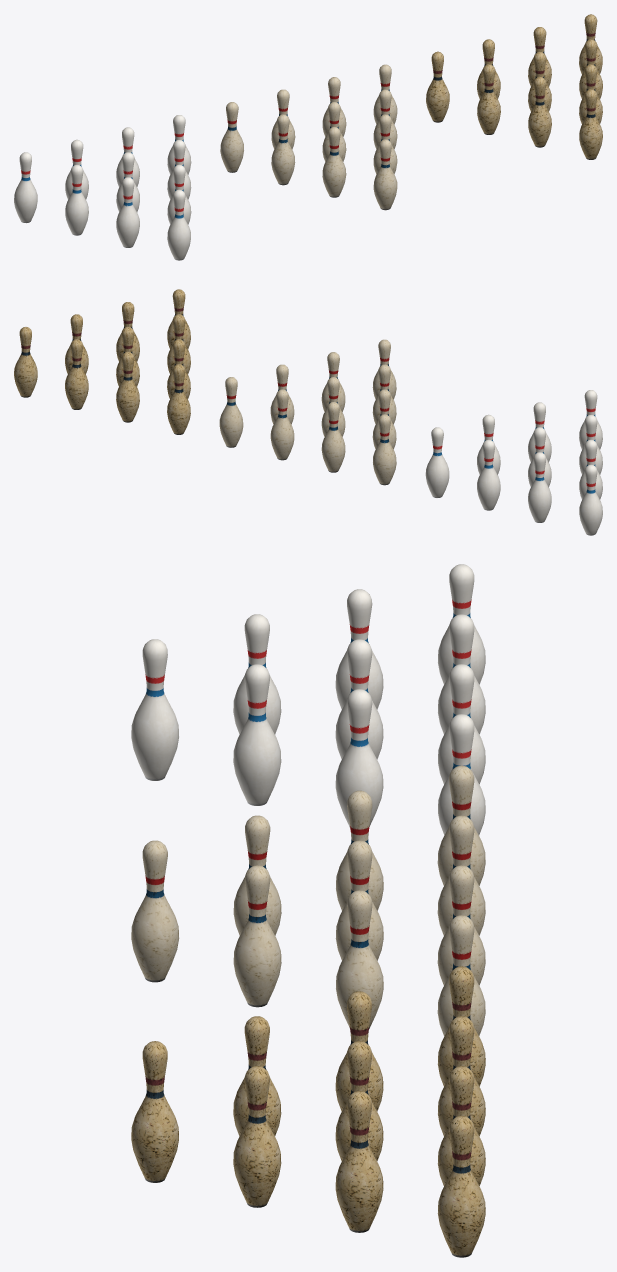
File: BowlingPins.fbx
3 views of the same model, one above another, from view 1: azimuth 30°, elevation 25°; view 2: azimuth 150°, elevation 25°; view 3: azimuth 270°, elevation 25° (orthographic). The views are drawn at different scales.
Parts seen in each view (by area): view 1: bowlingpins3.003, bowlingpins1.003, bowlingpins3.001, bowlingpins2, bowlingpins1, bowlingpins3, bowlingpins1.007, bowlingpins2.001, bowlingpins2.007, bowlingpins2.003, bowlingpins3.007, bowlingpins1.001 (+18 smaller); view 2: bowlingpins3.007, bowlingpins2.009, bowlingpins3.008, bowlingpins2.010, bowlingpins1.007, bowlingpins1.009, bowlingpins2.008, bowlingpins1.010, bowlingpins2.007, bowlingpins3.010, bowlingpins1.008, bowlingpins3.009 (+18 smaller); view 3: bowlingpins2, bowlingpins1.002, bowlingpins3, bowlingpins3.010, bowlingpins2.002, bowlingpins3.002, bowlingpins1, bowlingpins3.005, bowlingpins1.005, bowlingpins2.005, bowlingpins1.010, bowlingpins2.010 (+18 smaller).
Boxes of the visible parts, x1,y1,x2,y2 form: bowlingpins3.003: (477, 64, 500, 134); bowlingpins1.003: (65, 164, 88, 235); bowlingpins3.001: (528, 76, 551, 147); bowlingpins2: (373, 139, 397, 210); bowlingpins1: (167, 189, 190, 260); bowlingpins3: (579, 89, 602, 159); bowlingpins1.007: (14, 152, 37, 223); bowlingpins2.001: (322, 127, 346, 197); bowlingpins2.007: (220, 102, 243, 172); bowlingpins2.003: (271, 114, 295, 185); bowlingpins3.007: (426, 51, 449, 122); bowlingpins1.001: (116, 177, 139, 247); bowlingpins3.007: (167, 364, 190, 434); bowlingpins2.009: (270, 389, 294, 460); bowlingpins3.008: (116, 351, 139, 422); bowlingpins2.010: (219, 377, 243, 447); bowlingpins1.007: (579, 464, 602, 535); bowlingpins1.009: (477, 439, 500, 510); bowlingpins2.008: (321, 402, 345, 472); bowlingpins1.010: (425, 427, 449, 497); bowlingpins2.007: (373, 414, 396, 485); bowlingpins3.010: (14, 327, 37, 397); bowlingpins1.008: (528, 452, 551, 522); bowlingpins3.009: (65, 339, 88, 409); bowlingpins2: (131, 840, 179, 982); bowlingpins1.002: (233, 664, 281, 805); bowlingpins3: (131, 1041, 178, 1182); bowlingpins3.010: (437, 1115, 485, 1257); bowlingpins2.002: (233, 865, 281, 1007); bowlingpins3.002: (233, 1066, 281, 1207); bowlingpins1: (131, 639, 178, 780); bowlingpins3.005: (335, 1091, 383, 1232); bowlingpins1.005: (335, 689, 383, 827); bowlingpins2.005: (336, 890, 383, 1028); bowlingpins1.010: (438, 714, 485, 835); bowlingpins2.010: (437, 915, 485, 1036).
Bounding box in the file's own units: 342 × 38.08 × 89.68.
Materials: 3 (3 with a texture image).
